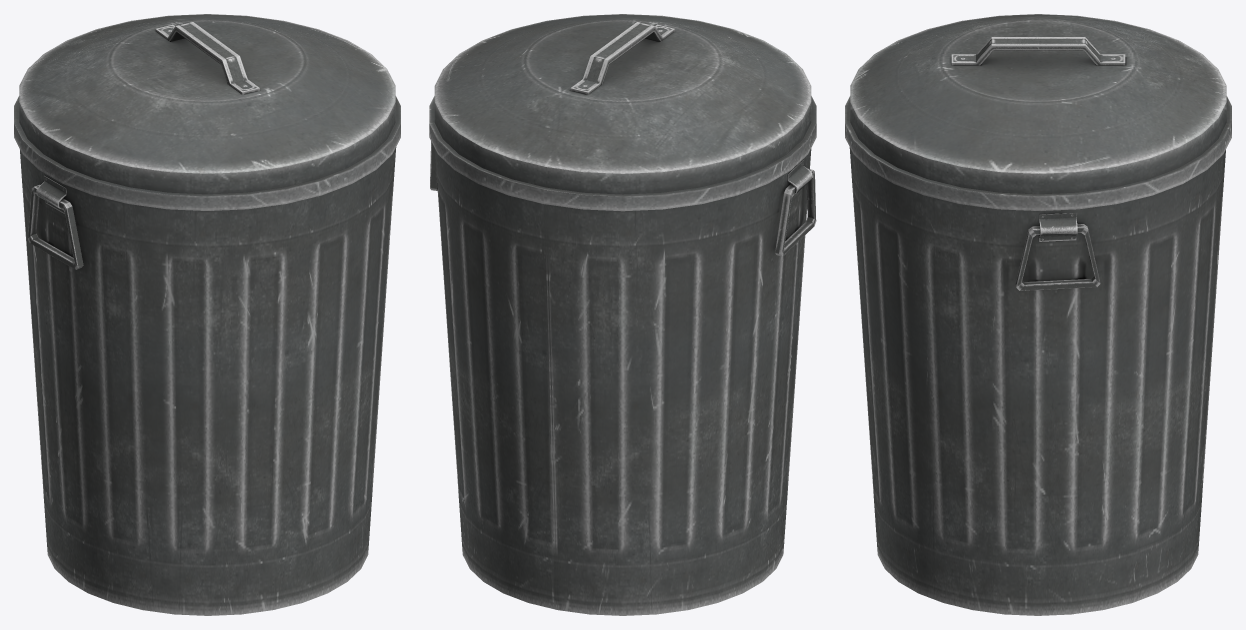
File: trashcan1.obj
3 views of the same model, side by side, from view 1: azimuth 30°, elevation 25°; view 2: azimuth 150°, elevation 25°; view 3: azimuth 270°, elevation 25° (orthographic).
Parts seen in each view (by area): view 1: Trashcan; view 2: Trashcan; view 3: Trashcan.
Part boxes in pixels (box(x1,y1,x2,y2)): Trashcan: box(14, 14, 400, 615); Trashcan: box(429, 14, 816, 615); Trashcan: box(845, 14, 1231, 615).
Bounding box in the file's own units: 83.67 × 117 × 81.07.
